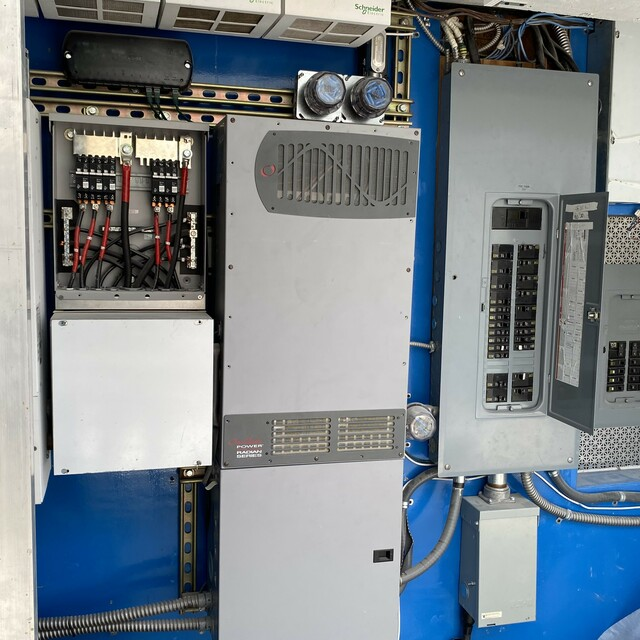inverter: (199, 105, 424, 640)
